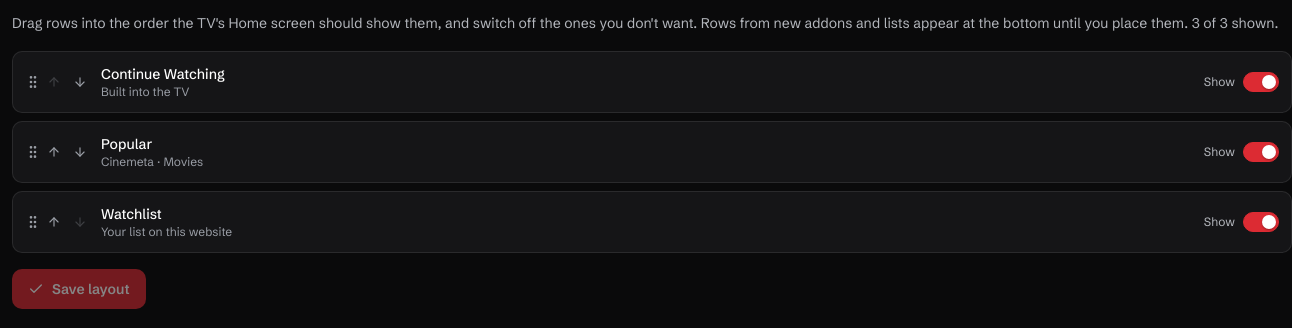
Test: HomeLayoutSettings › saves a new order and hidden rows against the version it loaded
The image size is (1292, 328).
expect the button "Save layout" is disabled: met, box [12,269,146,309]
Click the button named "Move Watchlist up": (54, 222) [41,209,67,235]
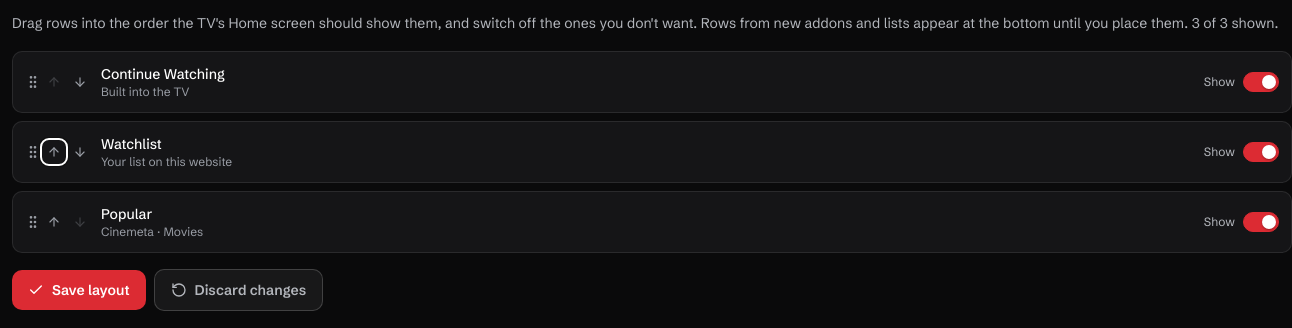
Click the switch named "Show Popular on Home": (1261, 222) [1243,212,1279,232]
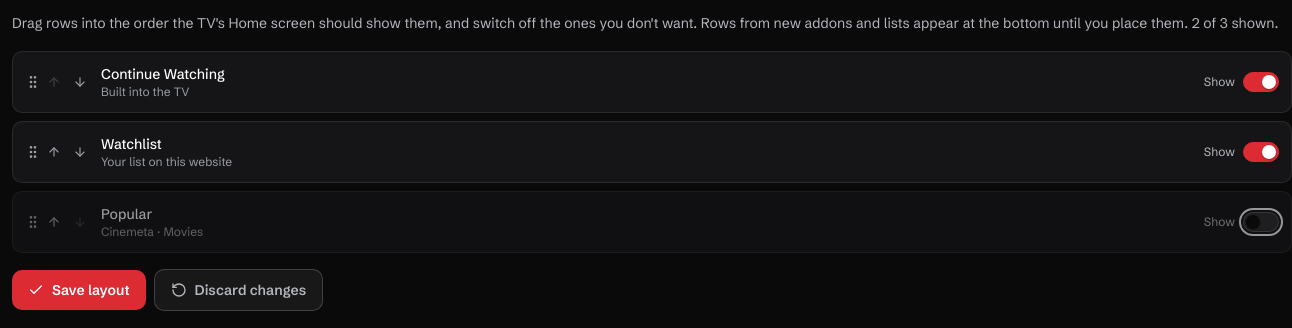
Click the button "Save layout": (79, 290) [12,270,146,310]
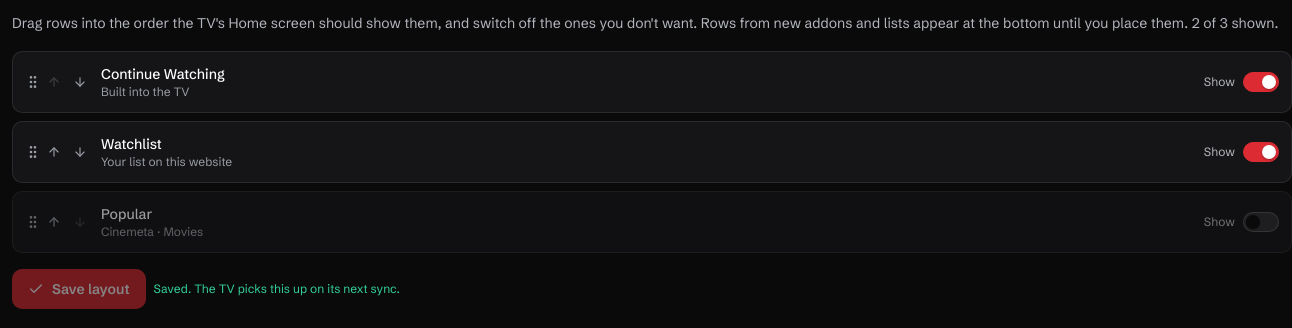
expect the text "Saved. The TV picks this up on its next sync." is shown: met, box [154,281,400,297]
